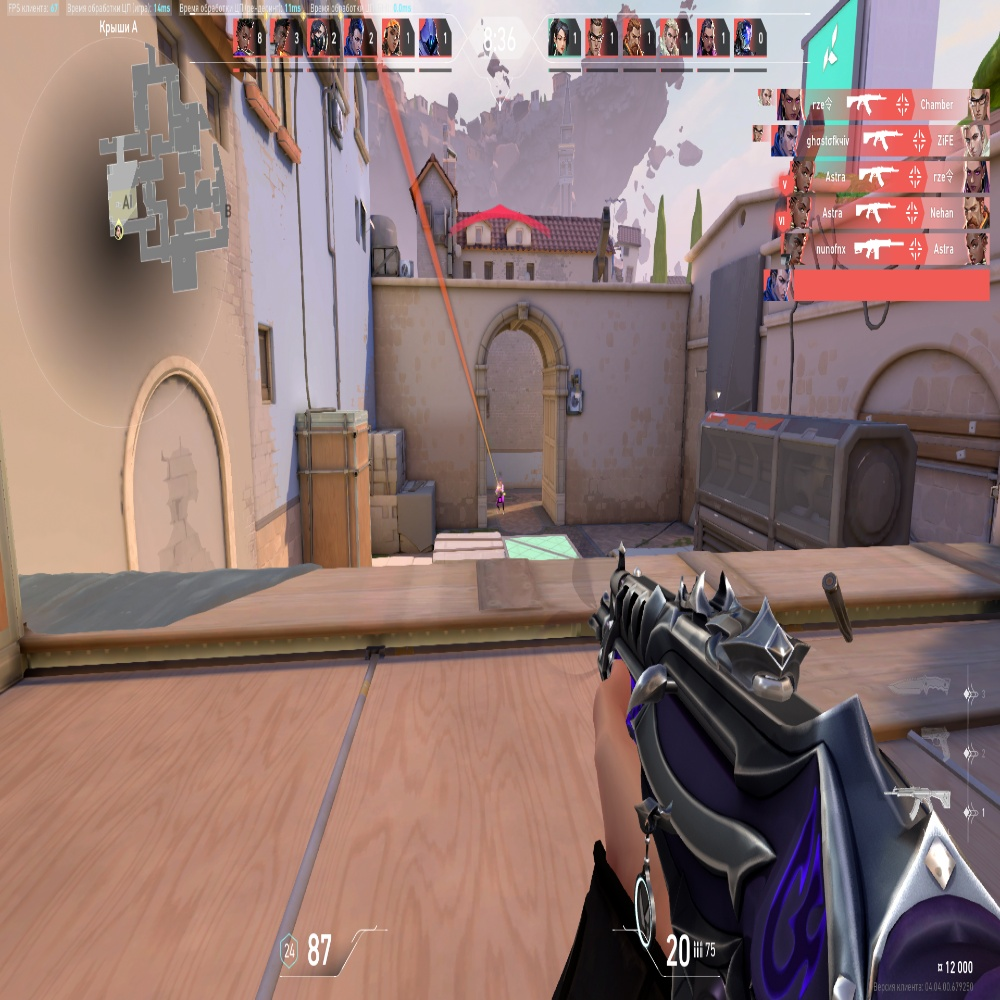body: (497, 486, 505, 497)
head: (499, 480, 502, 484)
